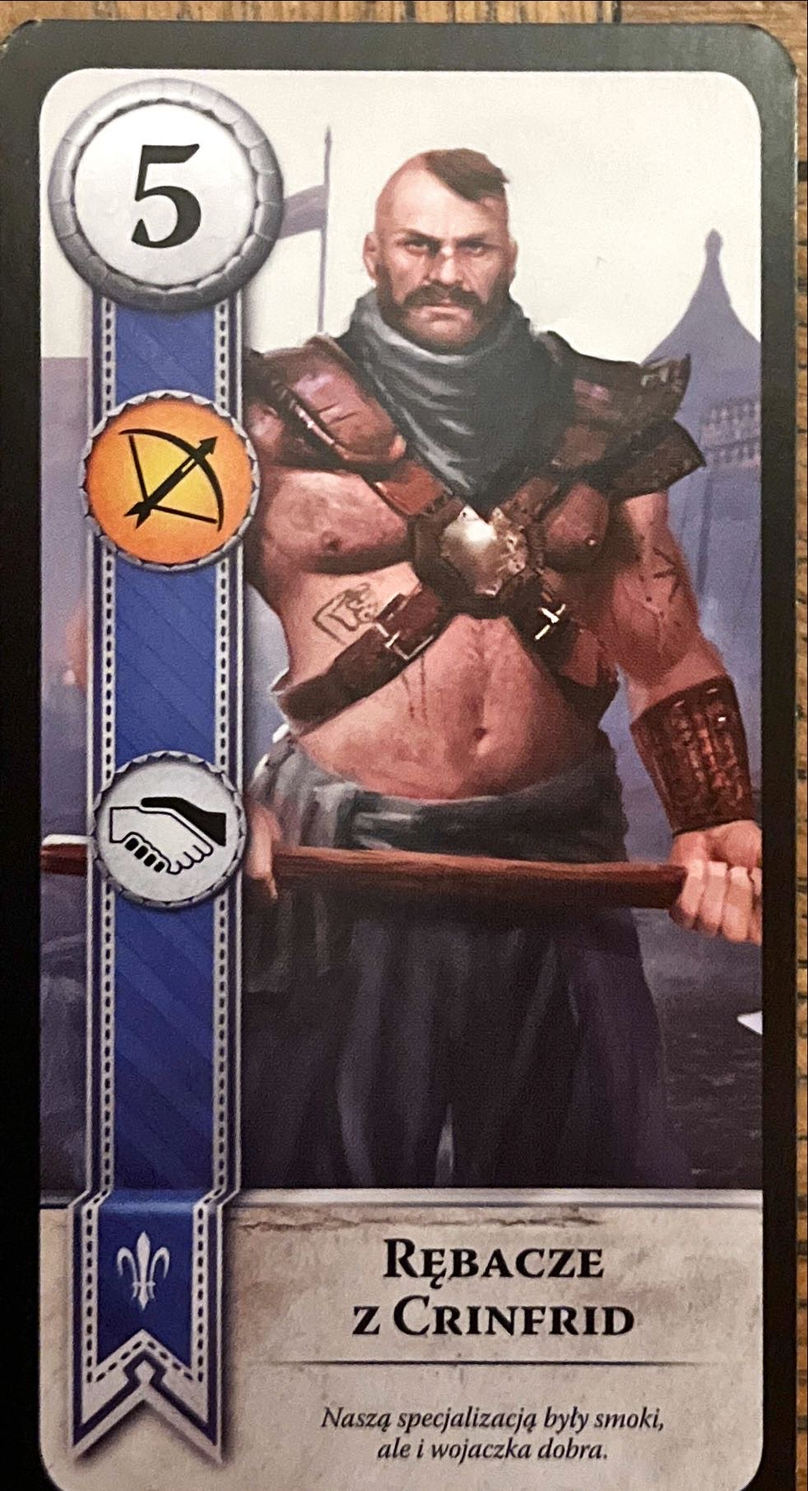5: (46, 78, 289, 310)
lucznik: (74, 392, 260, 572)
wiez: (90, 751, 246, 906)
